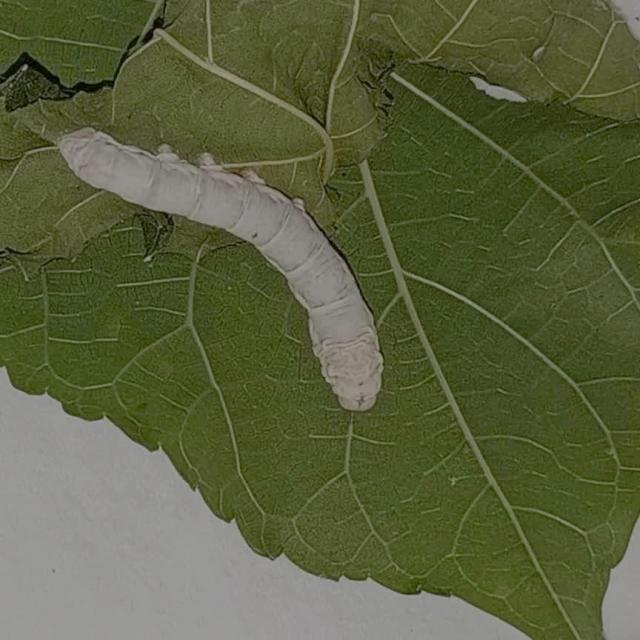Healthy: (51, 119, 396, 416)
